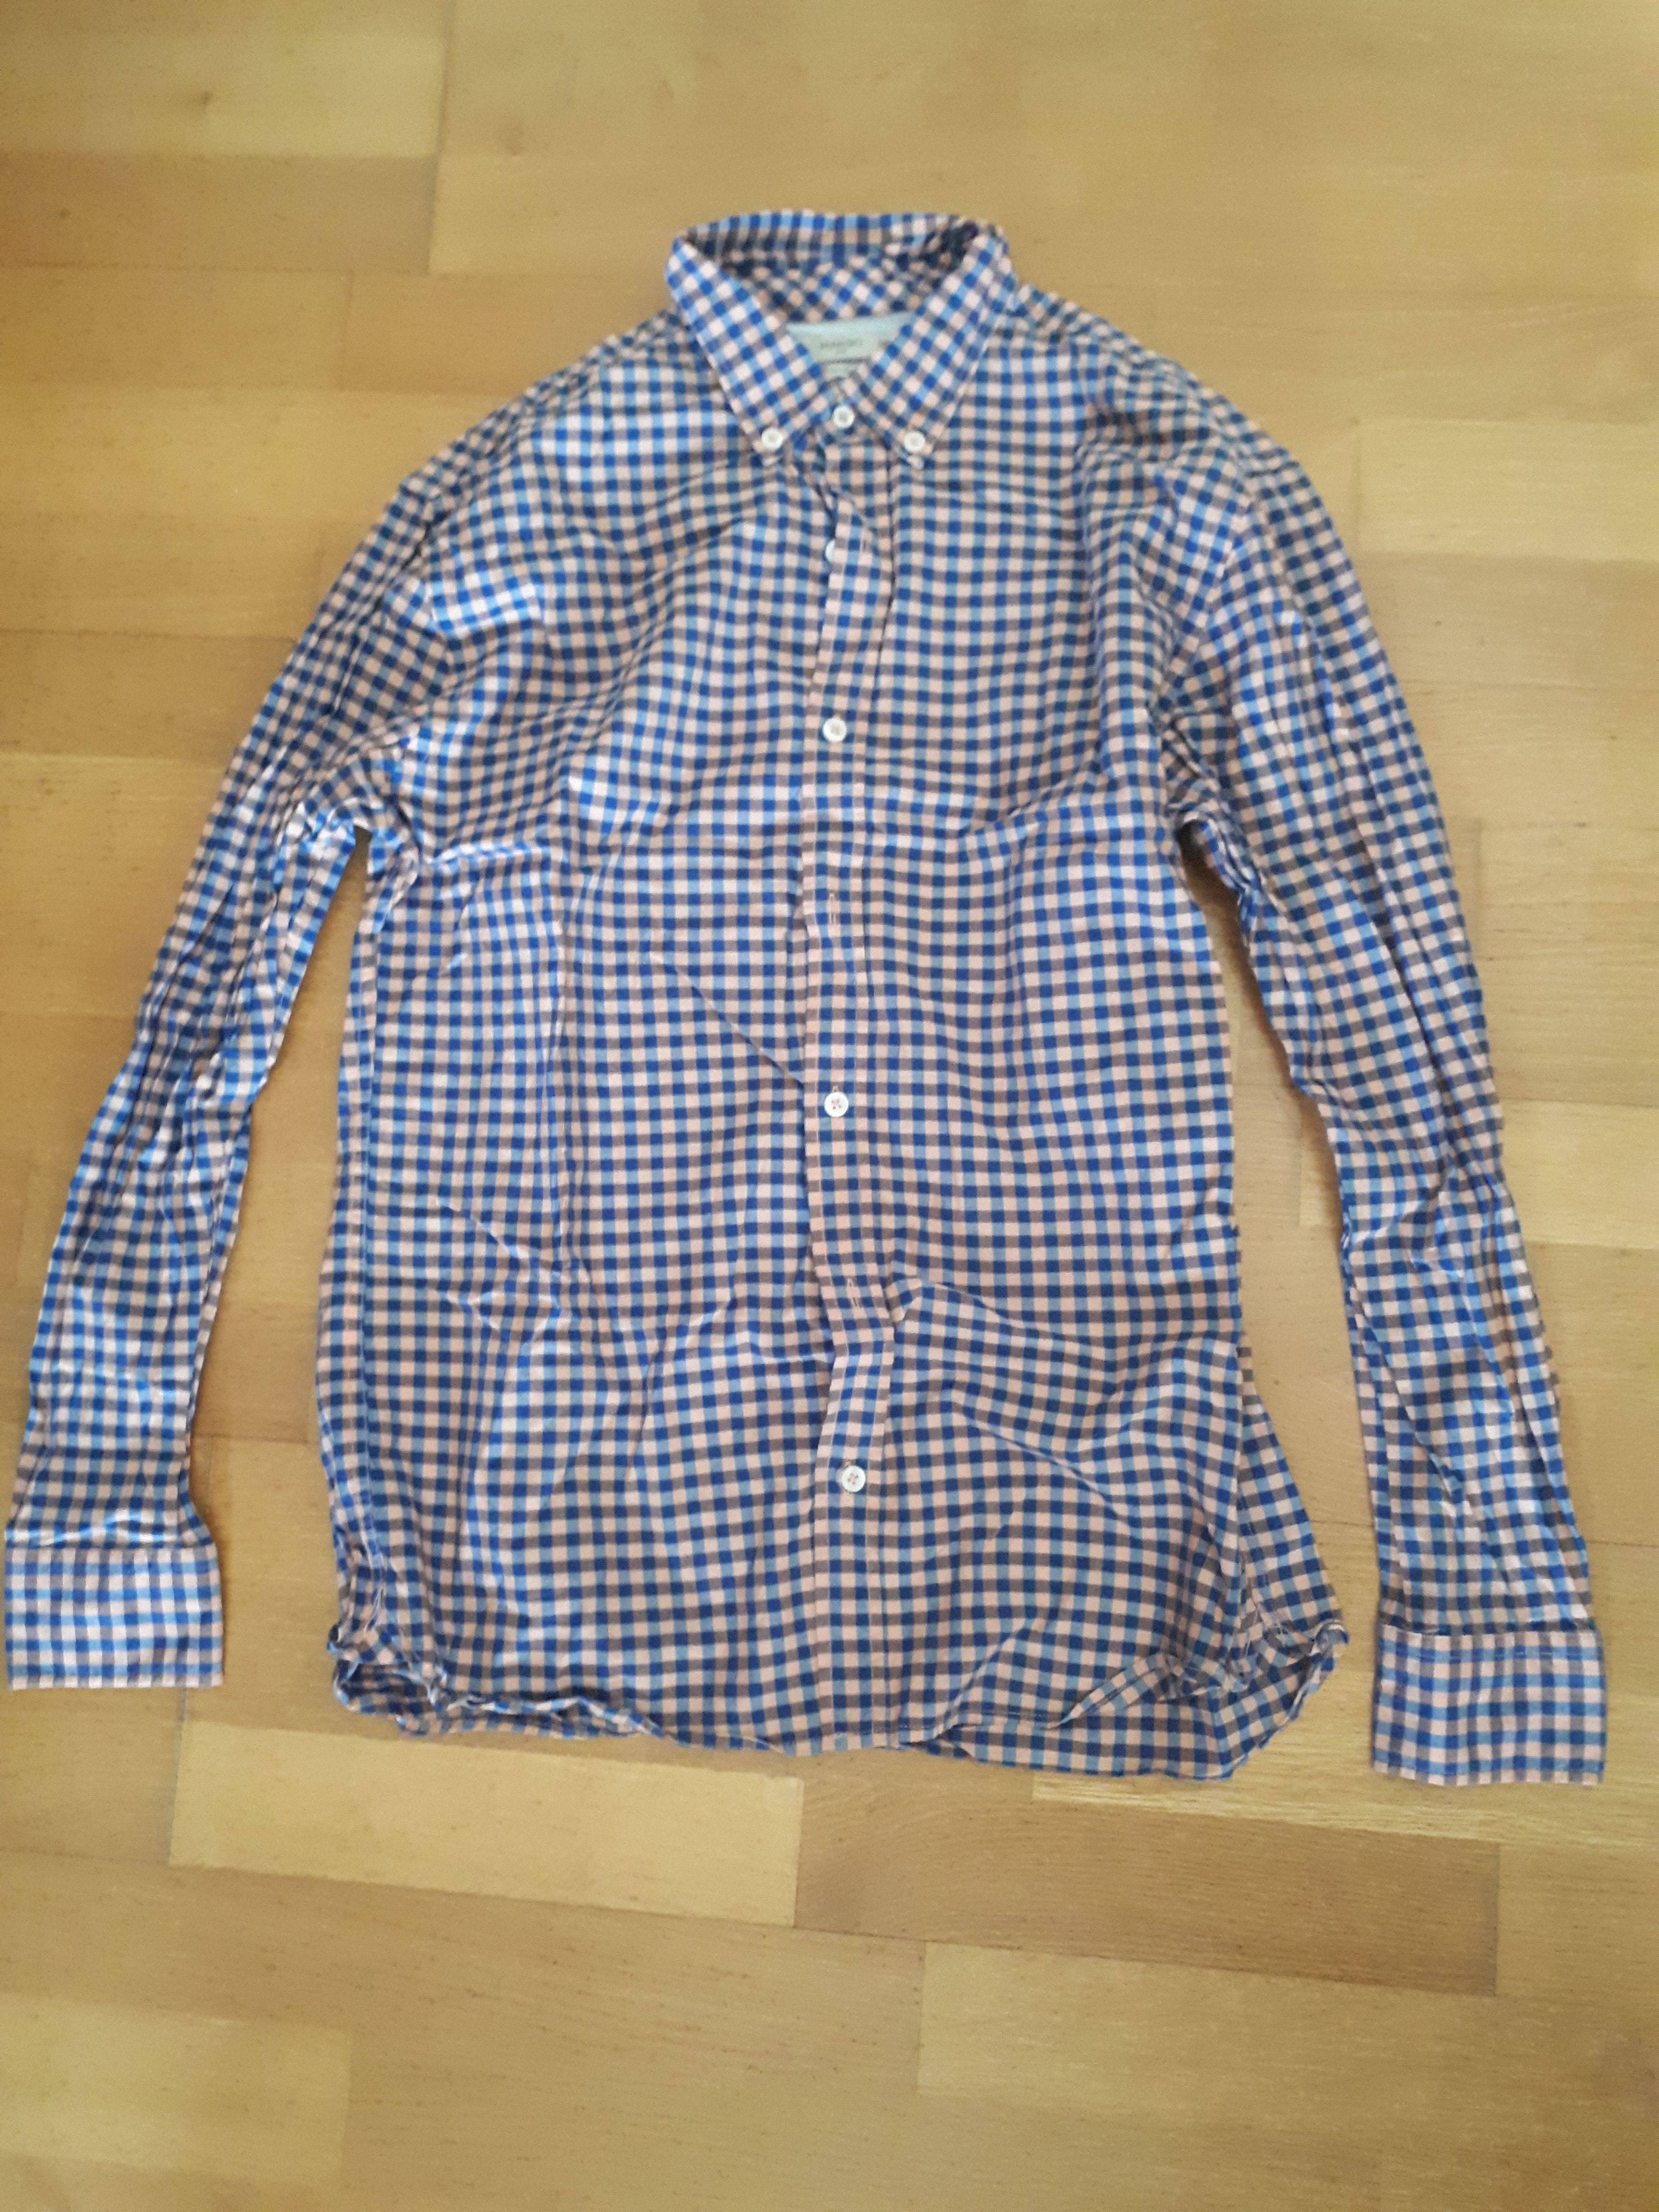clothes: (14, 199, 1605, 1799)
